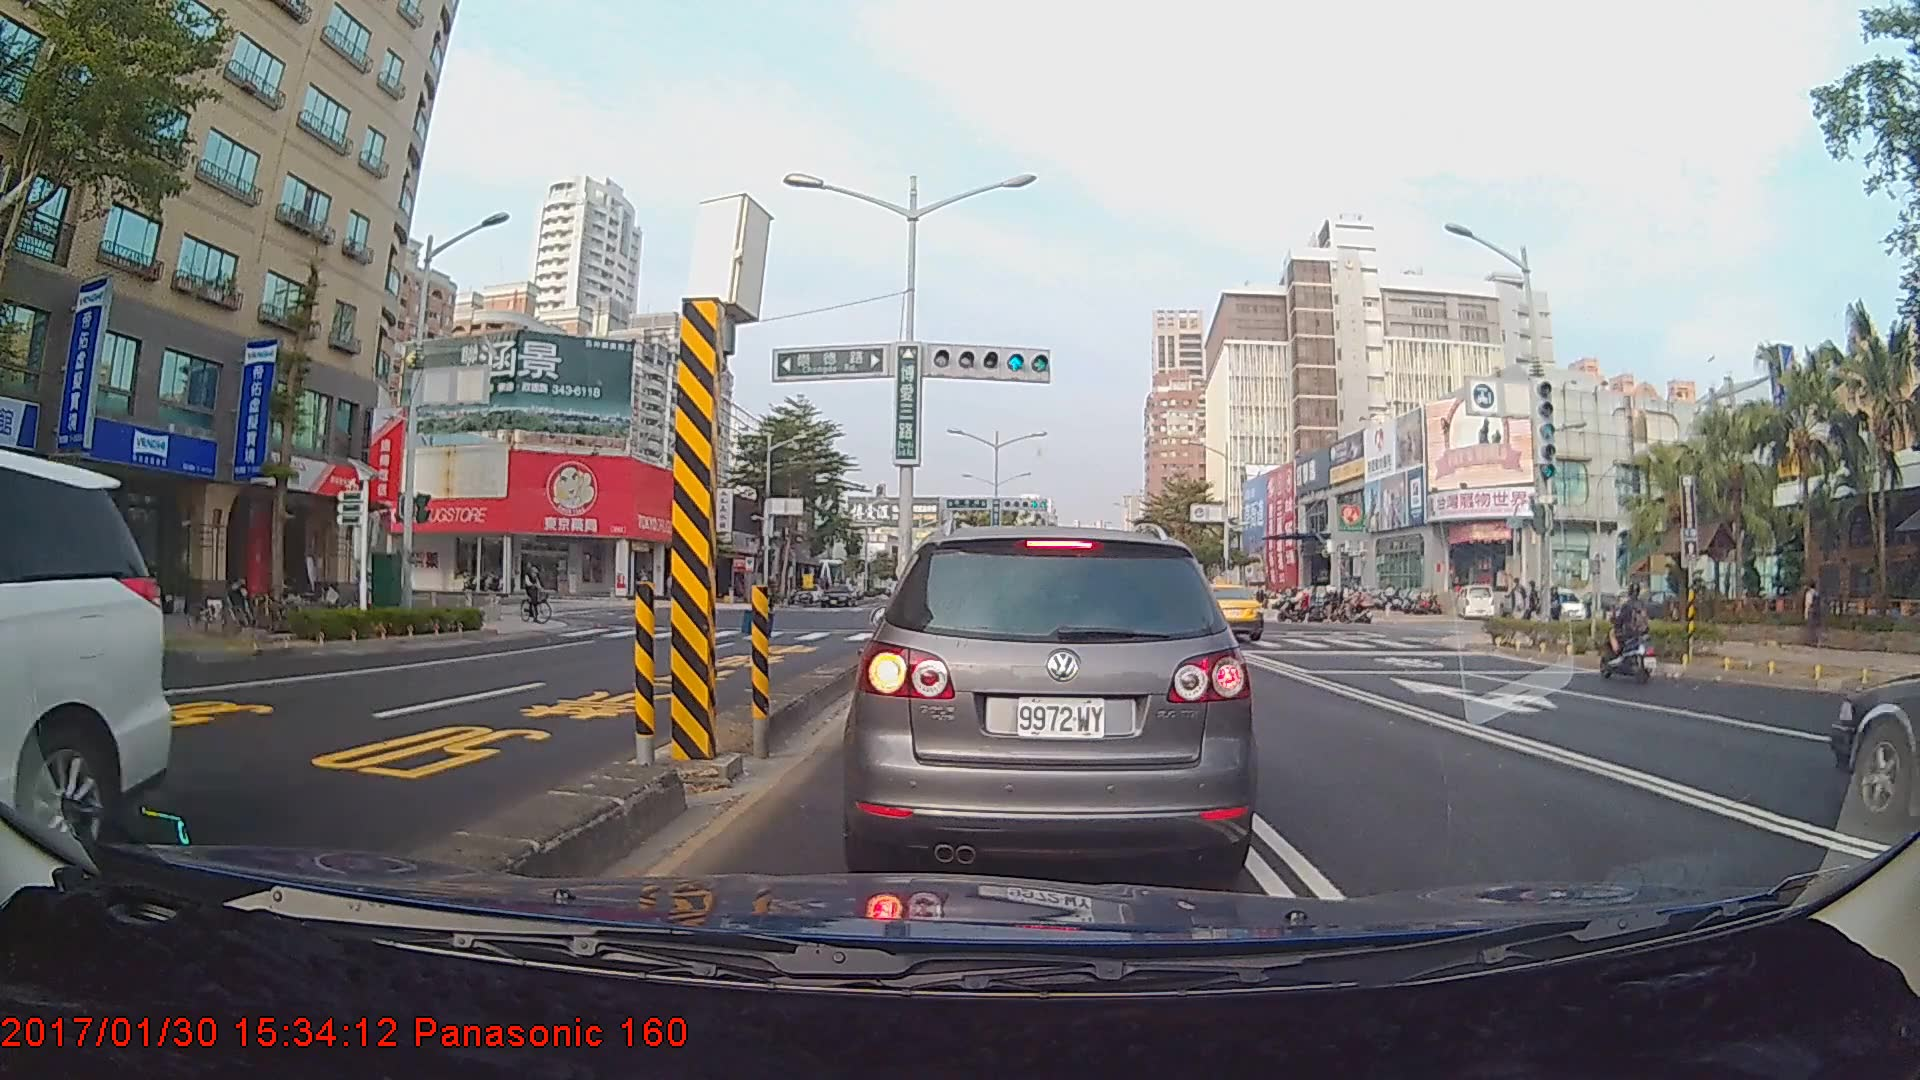pedestrian: (1801, 579, 1827, 647)
rider: (1597, 580, 1661, 686), (518, 559, 561, 629)
vehicle: (854, 521, 1250, 879), (0, 443, 172, 929), (1176, 581, 1265, 640)
